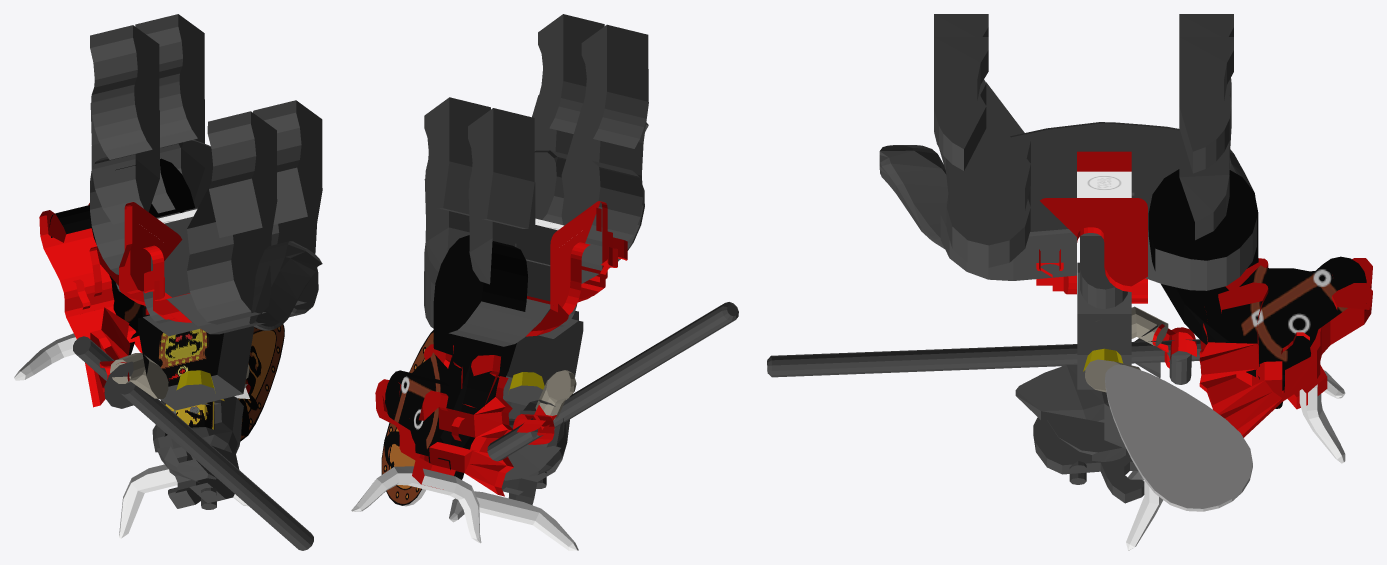
File: minifigcedricbull02.glb
3 views of the same model, side by side, from view 1: azimuth 30°, elevation 25°; view 2: azimuth 150°, elevation 25°; view 3: azimuth 270°, elevation 25° (orthographic). The views are drawn at different scales.
Parts seen in each view (by area): view 1: 074_shape36, 046_shape25, 053_shape30, 065_shape34, 062_shape32, 033_shape17, 023_shape10, 025_shape11, 059_shape30, 071_shape34, 050_shape28, 078_shape39 (+6 smaller); view 2: 074_shape36, 046_shape25, 062_shape32, 053_shape30, 065_shape34, 033_shape17, 059_shape30, 071_shape34, 068_shape32, 023_shape10, 025_shape11, 050_shape28 (+5 smaller); view 3: 074_shape36, 046_shape25, 042_shape23, 068_shape32, 025_shape11, 033_shape17, 059_shape30, 071_shape34, 078_shape39, 056_shape28, 023_shape10, 016_shape5 (+7 smaller).
Part boxes in pixels (x1,y1,x2,y2): 074_shape36: [14, 158, 194, 407]; 046_shape25: [90, 139, 318, 334]; 053_shape30: [90, 25, 159, 159]; 065_shape34: [207, 111, 276, 237]; 062_shape32: [187, 188, 277, 324]; 033_shape17: [73, 336, 313, 550]; 023_shape10: [138, 317, 254, 410]; 025_shape11: [152, 370, 243, 509]; 059_shape30: [135, 14, 204, 147]; 071_shape34: [253, 100, 322, 224]; 050_shape28: [90, 92, 159, 224]; 078_shape39: [249, 241, 322, 330]; 074_shape36: [351, 235, 527, 543]; 046_shape25: [424, 150, 644, 346]; 062_shape32: [561, 91, 648, 246]; 053_shape30: [468, 108, 534, 228]; 065_shape34: [581, 24, 648, 148]; 033_shape17: [487, 302, 738, 461]; 059_shape30: [424, 97, 490, 215]; 071_shape34: [538, 14, 604, 133]; 068_shape32: [532, 81, 585, 224]; 023_shape10: [503, 321, 583, 405]; 025_shape11: [501, 372, 569, 505]; 050_shape28: [468, 182, 535, 284]; 074_shape36: [1148, 169, 1372, 463]; 046_shape25: [940, 122, 1256, 303]; 042_shape23: [1105, 364, 1252, 511]; 068_shape32: [934, 105, 1030, 267]; 025_shape11: [1015, 348, 1144, 503]; 033_shape17: [767, 325, 1201, 384]; 059_shape30: [1179, 37, 1233, 173]; 071_shape34: [934, 37, 988, 170]; 078_shape39: [879, 145, 948, 248]; 056_shape28: [1179, 107, 1231, 240]; 023_shape10: [1077, 314, 1131, 389]; 016_shape5: [1080, 236, 1127, 308].
Size of the model in its own units: 2.87 by 7.78 by 8.89.
13 materials, 6 textured.
